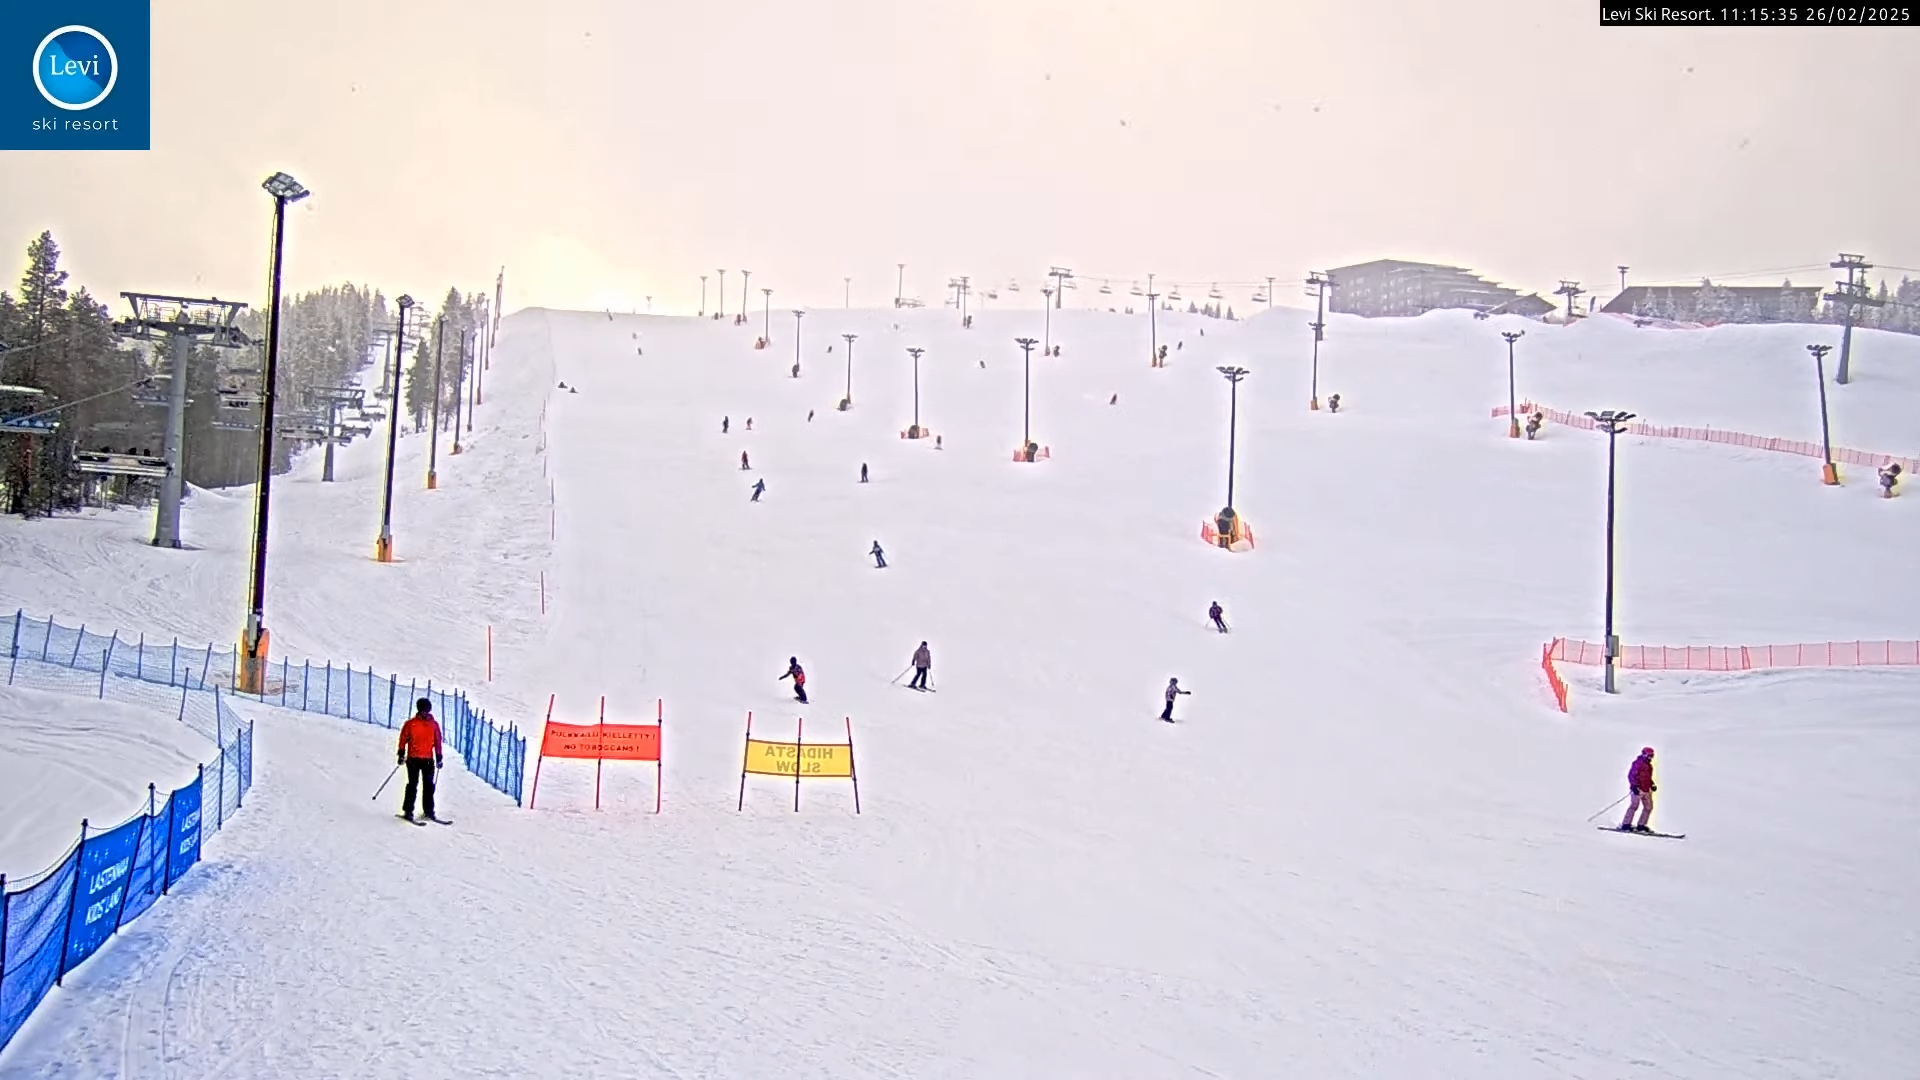skier: (375, 698, 452, 825), (1586, 744, 1685, 841), (889, 640, 942, 695)
snowboarder: (1160, 676, 1188, 723)
